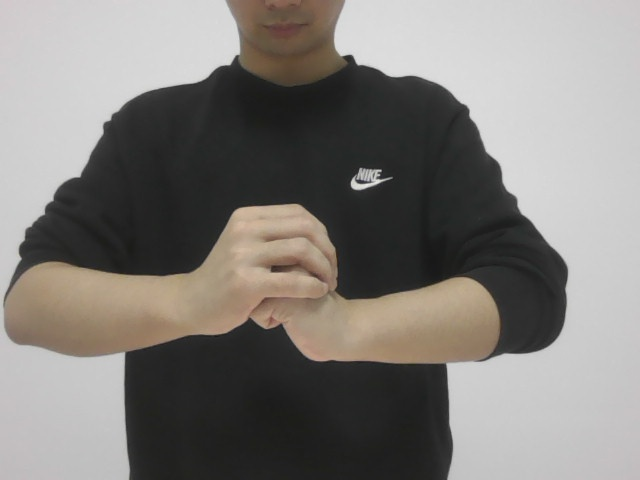wish: (201, 195, 349, 366)
